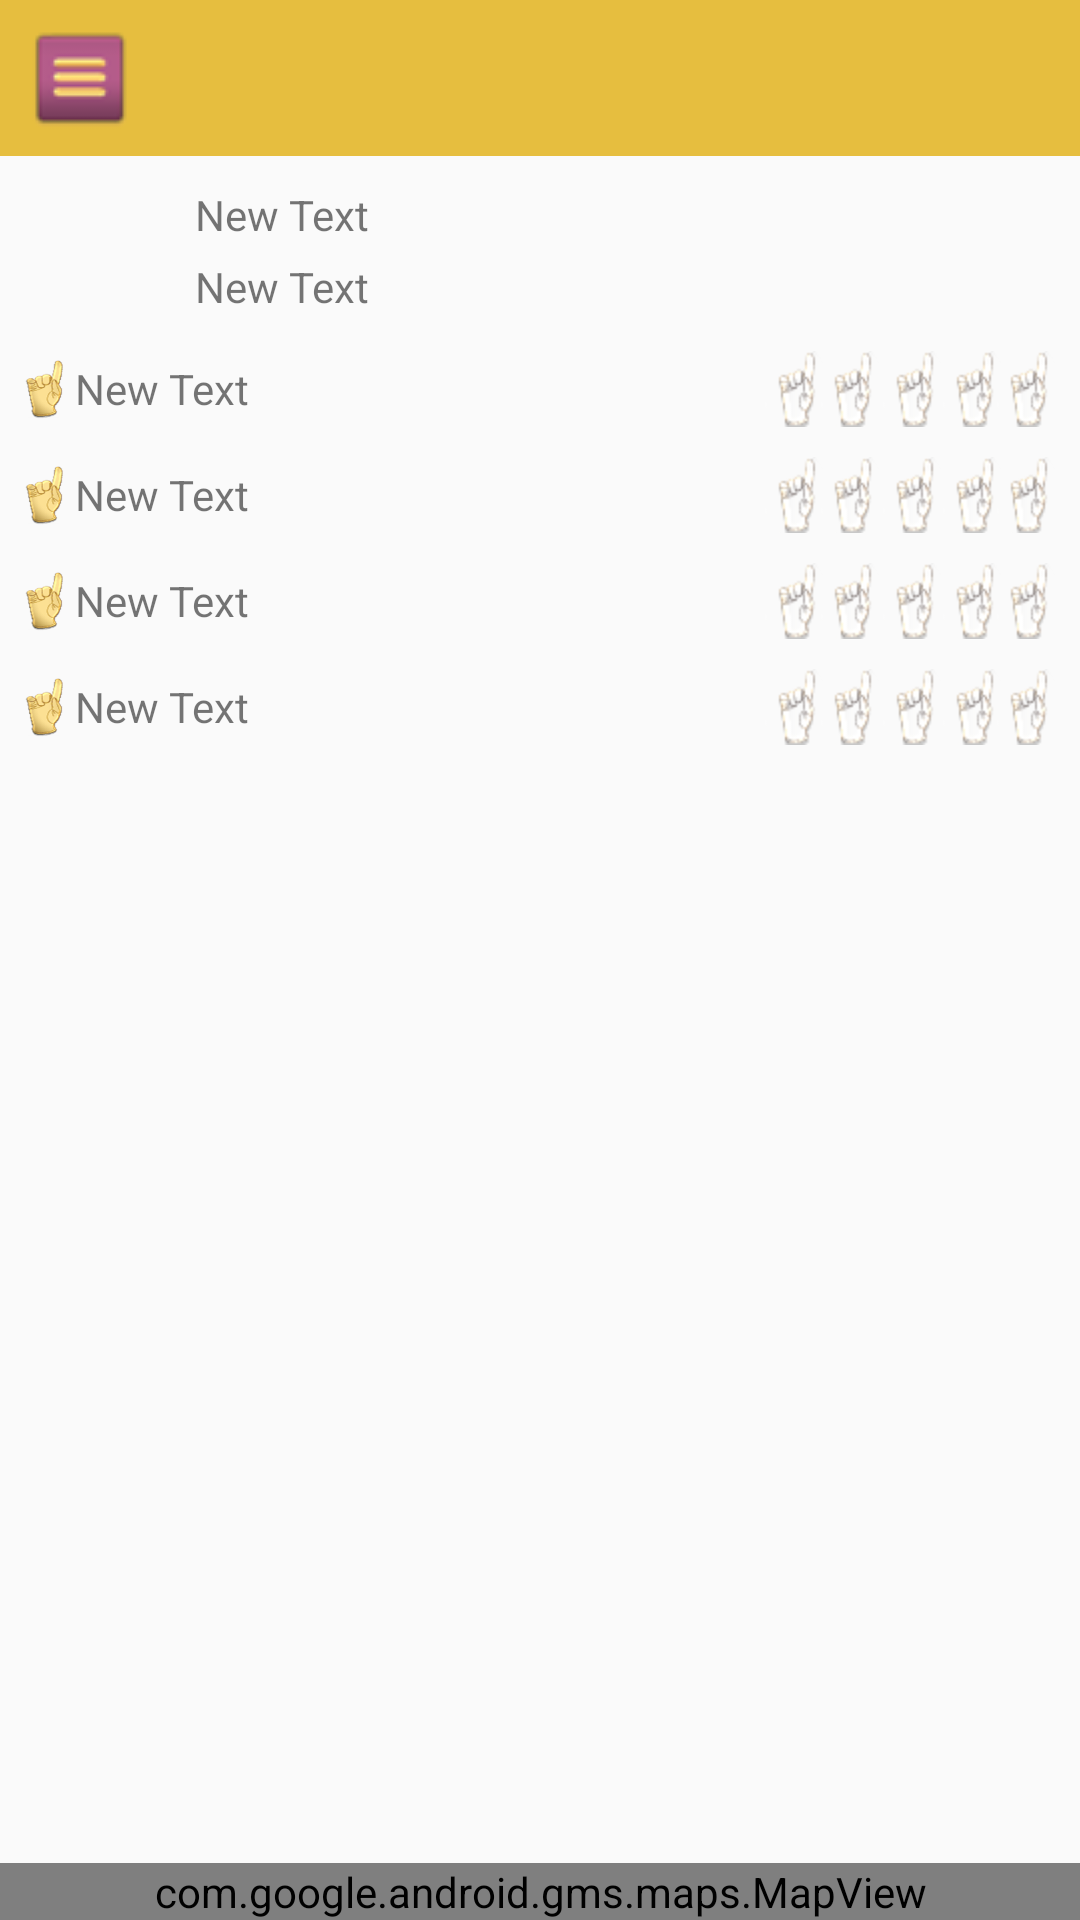

Screen size 1080*1920. Icon name, then its box in pixels as region(x1, y1, x2, y2):
finger: region(26, 360, 63, 418), region(26, 466, 63, 524), region(26, 572, 63, 630), region(26, 678, 63, 736)
rating fingers: region(779, 353, 1047, 427), region(779, 459, 1047, 533), region(779, 565, 1047, 639), region(779, 671, 1047, 745)
